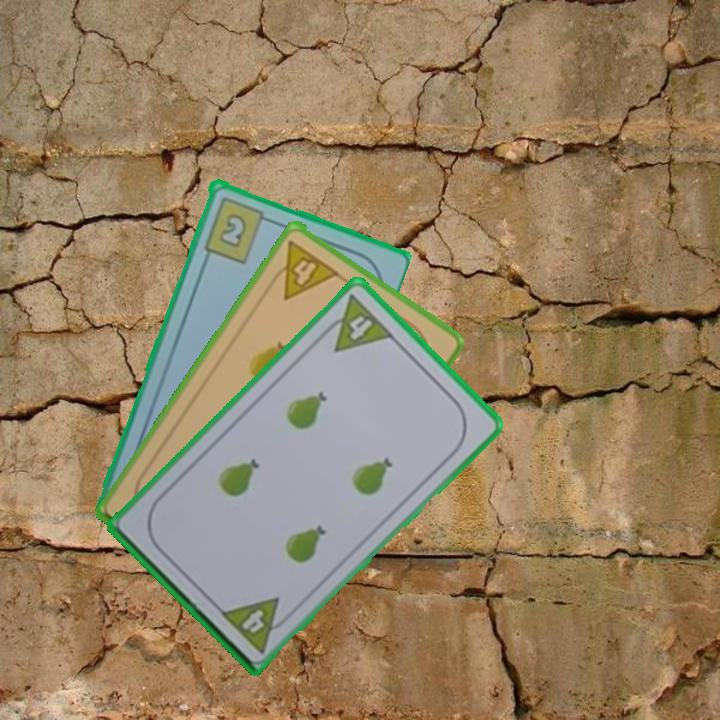2b: (200, 193, 275, 265)
4p: (316, 290, 397, 355), (264, 236, 342, 302), (216, 593, 295, 656)
